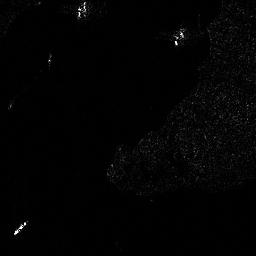ship: (12, 218, 30, 237)
